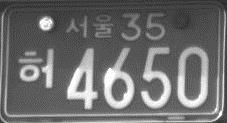0: (176, 46, 210, 108)
3: (120, 11, 140, 40)
4: (65, 46, 100, 110)
5: (140, 45, 172, 110), (145, 11, 166, 40)
6: (101, 46, 134, 111)
서울_O: (65, 12, 116, 39)
허: (18, 46, 55, 89)
